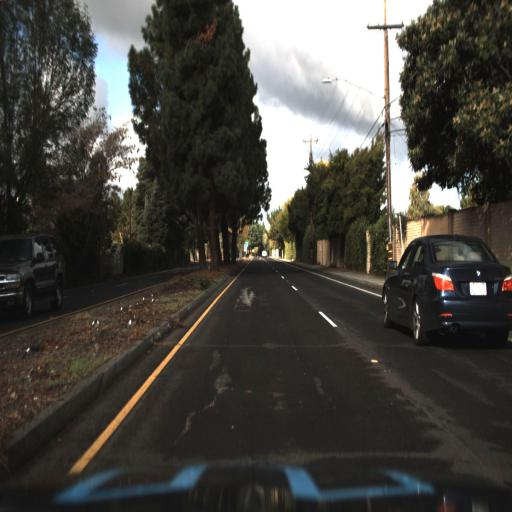car: (377, 230, 509, 349), (0, 231, 69, 321)
